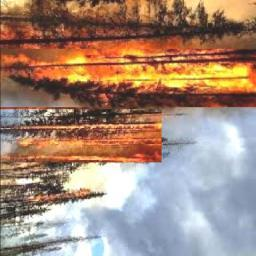Large fire: (1, 0, 256, 107), (2, 123, 173, 163)
Small fire: (23, 188, 97, 204)
